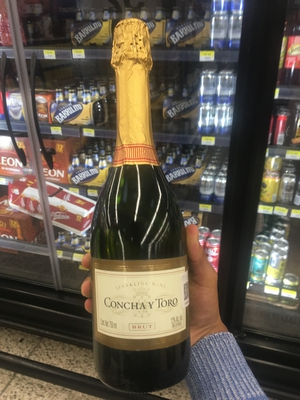brut: (77, 24, 213, 399)
